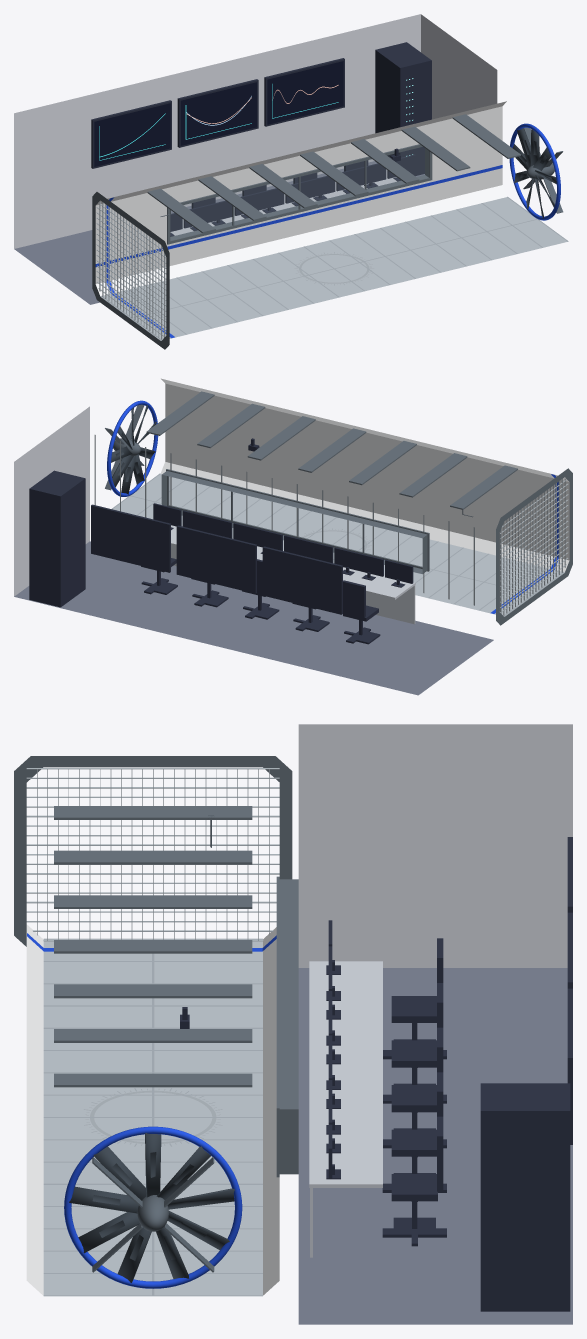
Rendered from tunnel-own.glb.
The picture shows the model from 3 angles, top to bottom: view 1: azimuth 30°, elevation 25°; view 2: azimuth 150°, elevation 25°; view 3: azimuth 270°, elevation 25°; orthographic projection. The views are drawn at different scales.
Parts seen in each view (by area): view 1: RoomWalls, Shell, FarWall, RoomKit, RoomDisplays, LightHousings, WindowGlass, Screen, RoomFloor, Seams, WindowFrames, Trim (+7 smaller); view 2: Shell, RoomKit, RoomFloor, LightHousings, RoomWalls, Screen, Seams, Desk, WindowReveals, InletLip, WindowFrames, FanRotor (+2 smaller); view 3: RoomWalls, Shell, RoomFloor, RoomKit, LightHousings, Desk, Screen, FanRotor, InletLip, WindowReveals, Seams, FanRing (+3 smaller).
Part boxes in pixels (bbox=[...]): RoomWalls: bbox=[14, 14, 497, 248]; Shell: bbox=[95, 101, 567, 340]; FarWall: bbox=[95, 106, 502, 283]; RoomKit: bbox=[91, 42, 431, 236]; RoomDisplays: bbox=[94, 61, 343, 166]; LightHousings: bbox=[147, 114, 520, 233]; WindowGlass: bbox=[171, 147, 428, 239]; Screen: bbox=[96, 202, 166, 339]; RoomFloor: bbox=[14, 161, 424, 304]; Seams: bbox=[100, 196, 568, 340]; WindowFrames: bbox=[167, 144, 432, 244]; Trim: bbox=[95, 165, 502, 338]; Shell: bbox=[113, 378, 569, 615]; RoomKit: bbox=[29, 470, 413, 644]; RoomFloor: bbox=[14, 541, 493, 695]; LightHousings: bbox=[146, 391, 517, 509]; RoomWalls: bbox=[14, 406, 89, 596]; Screen: bbox=[497, 478, 568, 615]; Seams: bbox=[94, 435, 564, 616]; Desk: bbox=[171, 525, 415, 624]; WindowReveals: bbox=[161, 471, 427, 574]; InletLip: bbox=[496, 468, 572, 625]; WindowFrames: bbox=[166, 469, 429, 571]; FanRotor: bbox=[111, 405, 156, 494]; RoomWalls: bbox=[298, 724, 572, 967]; Shell: bbox=[26, 924, 279, 1295]; RoomFloor: bbox=[298, 968, 572, 1324]; RoomKit: bbox=[326, 837, 572, 1311]; LightHousings: bbox=[54, 806, 252, 1087]; Desk: bbox=[309, 961, 382, 1257]; Screen: bbox=[26, 768, 279, 941]; FanRotor: bbox=[69, 1133, 234, 1282]; InletLip: bbox=[14, 756, 292, 946]; WindowReveals: bbox=[279, 879, 298, 1174]; Seams: bbox=[43, 938, 262, 1296]; FanRing: bbox=[64, 1126, 242, 1288].
Size of the model in its own units: 8.35 by 2.55 by 5.3.
